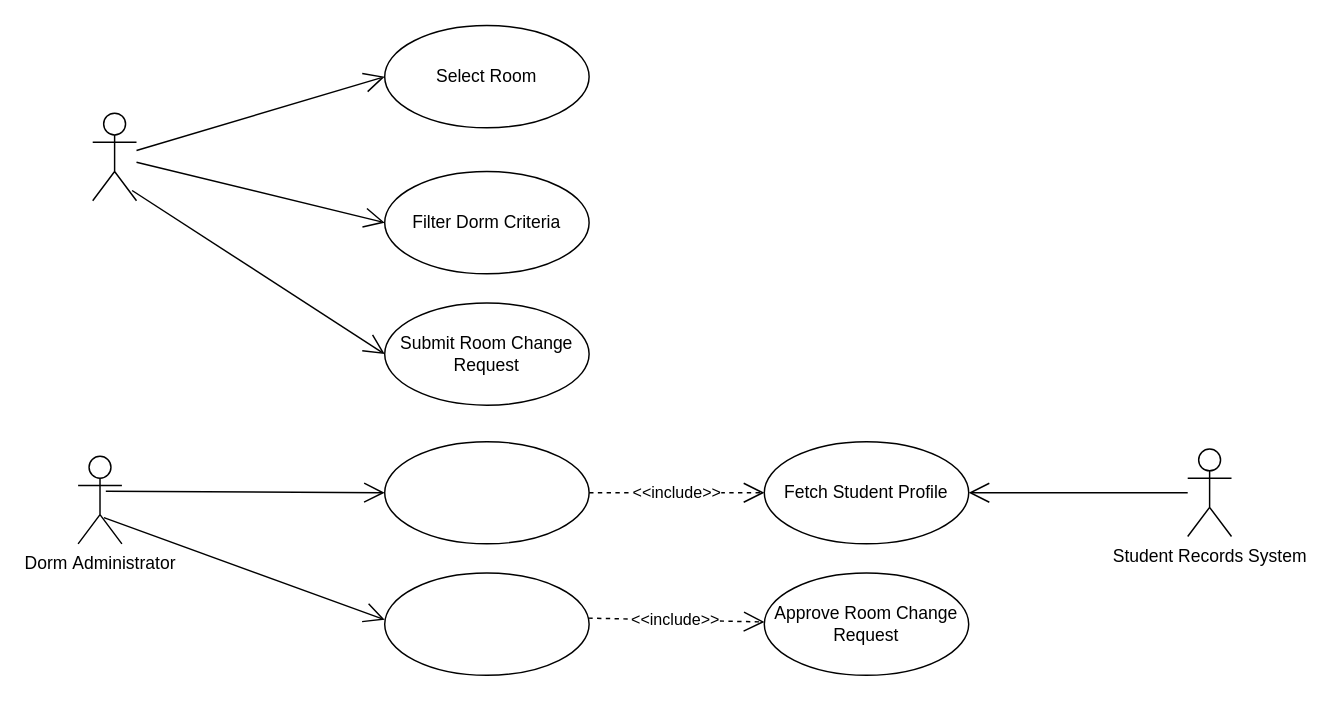
This 1332x701 diagram has some shape labels left out. Each missing label, with the centre of its shape:
"Execute Smart Allocation" goes at point 486,492.
"Manage Room Change Request" goes at point 486,623.
"Student" goes at point 114,156.
